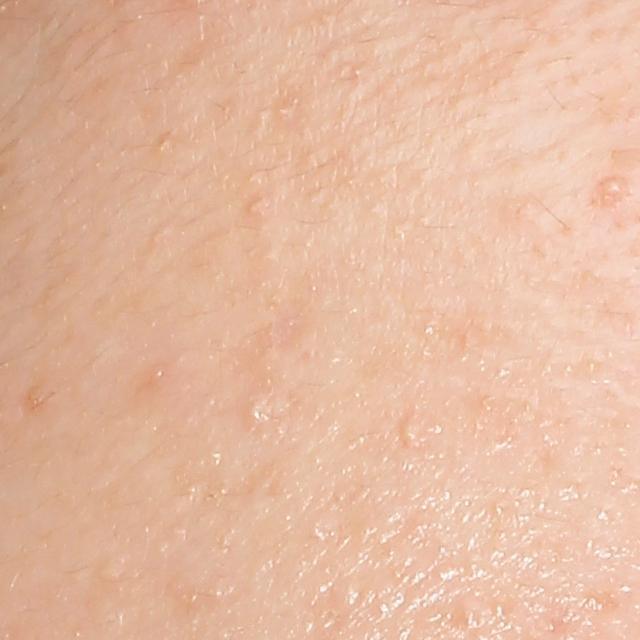comedo: (592, 177, 628, 210), (244, 195, 270, 221), (400, 420, 422, 448), (247, 397, 270, 423), (275, 102, 295, 122)
